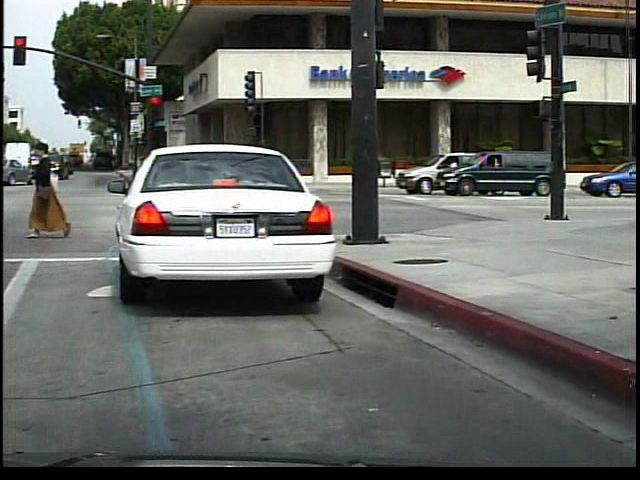person: (26, 136, 80, 242)
